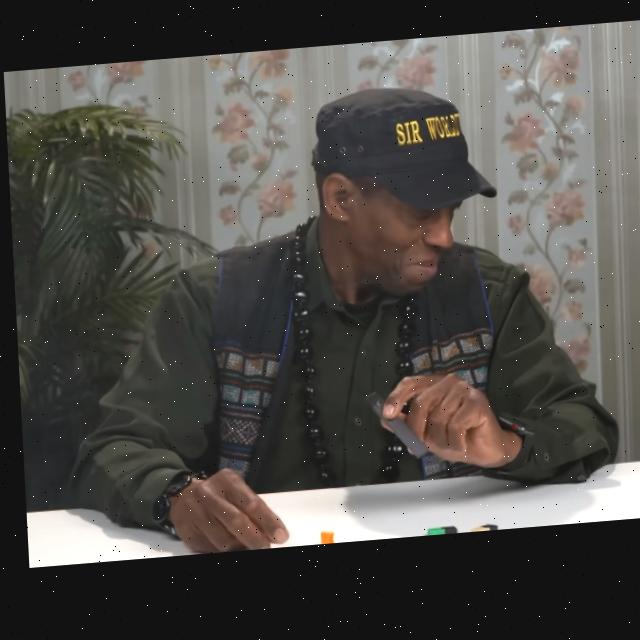vape: (357, 395, 424, 470)
